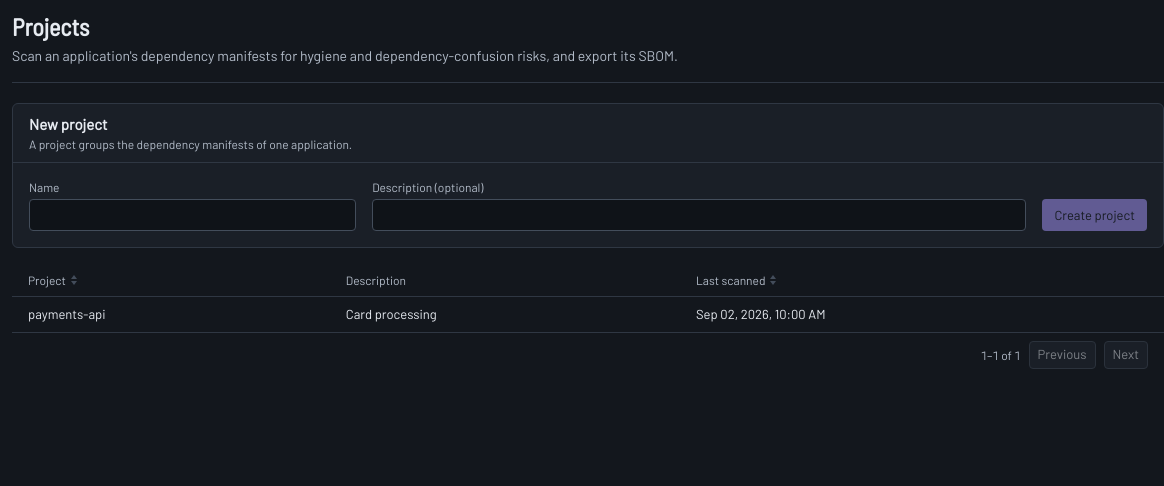
Test: Projects › shows a server rejection of a duplicate project
The width and height of the screenshot is (1164, 486).
Type "payments-api" into the field labelled "Name".
click(193, 215); type("payments-api")  # box [29, 199, 356, 231]
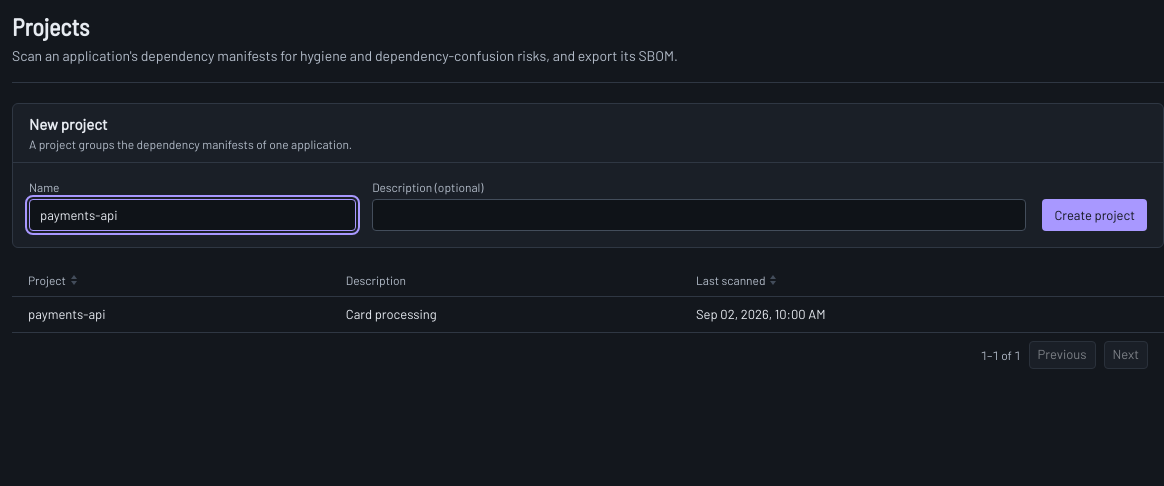
Click the button "Create project".
click(1095, 215)  # box [1042, 199, 1147, 231]
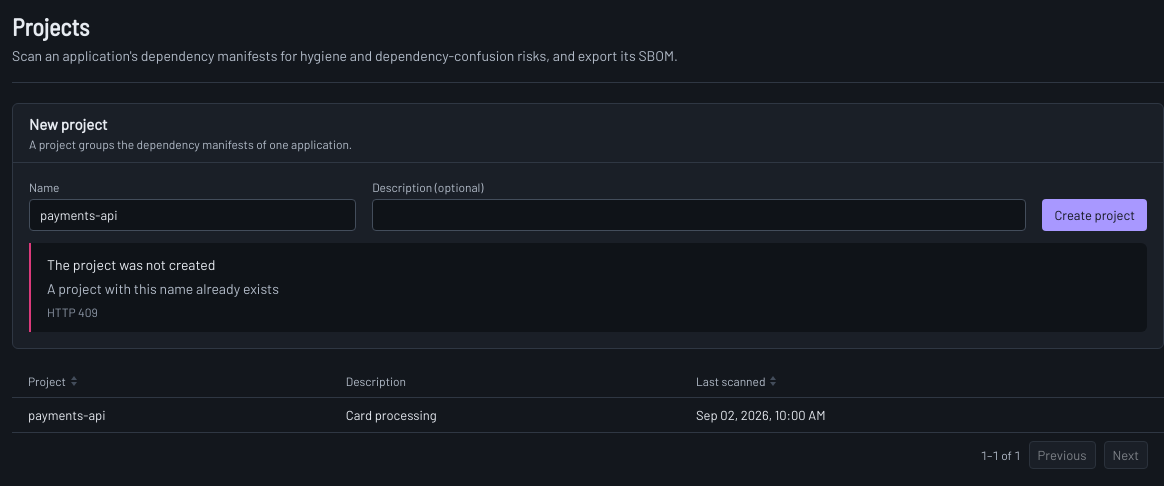
Now the text "The project was not created" is shown, box [47, 255, 215, 275]
